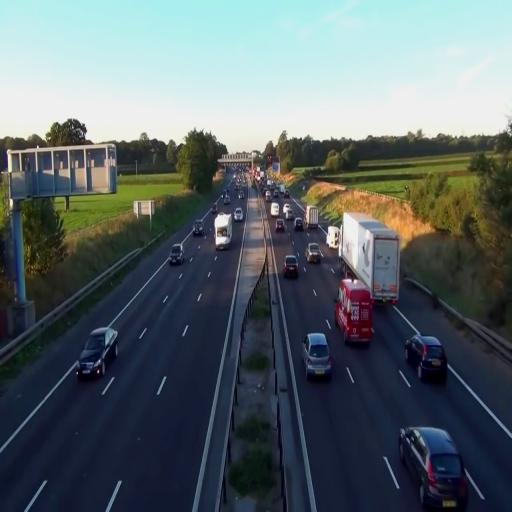vehicle: (338, 210, 400, 307), (398, 426, 469, 510), (339, 211, 400, 307), (335, 278, 374, 346), (77, 326, 118, 380), (404, 332, 447, 380), (416, 334, 448, 382), (302, 332, 332, 378), (214, 212, 234, 249), (215, 213, 233, 249), (306, 242, 323, 266), (283, 254, 299, 277), (326, 224, 340, 250), (168, 244, 184, 265), (234, 206, 246, 222), (192, 223, 202, 236)
